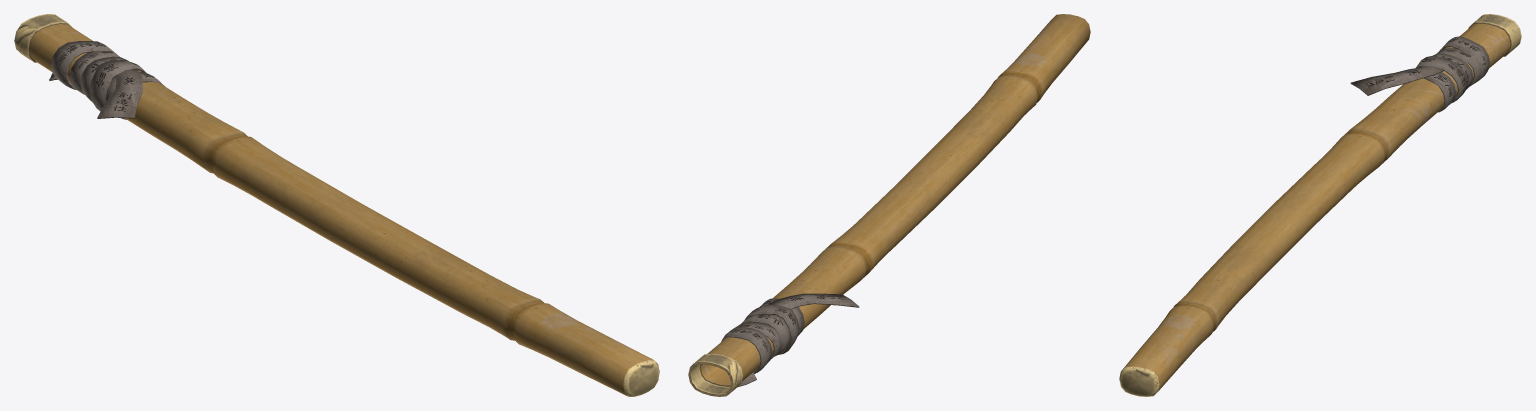
File: dual-katana-scabbard.glb
The picture shows the model from 3 angles, left to right: view 1: azimuth 30°, elevation 25°; view 2: azimuth 150°, elevation 25°; view 3: azimuth 330°, elevation 25°; orthographic projection. The views are drawn at different scales.
Parts seen in each view (by area): view 1: Scabbard_Katana_Sword_0; view 2: Scabbard_Katana_Sword_0; view 3: Scabbard_Katana_Sword_0.
Part boxes in pixels (left/top/right/bottom): Scabbard_Katana_Sword_0: left=14, top=14, right=659, bottom=396; Scabbard_Katana_Sword_0: left=688, top=14, right=1090, bottom=396; Scabbard_Katana_Sword_0: left=1119, top=14, right=1521, bottom=396.
Bounding box in the file's own units: 0.1525 × 0.0398 × 0.7708.
1 material, 1 textured.
